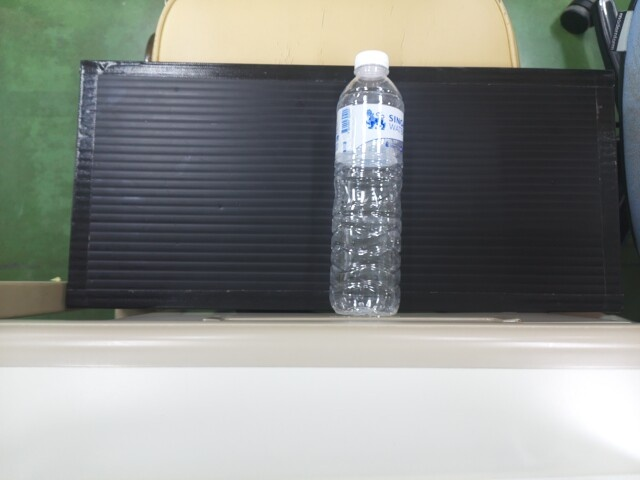plastic_bottle: (330, 50, 403, 314)
